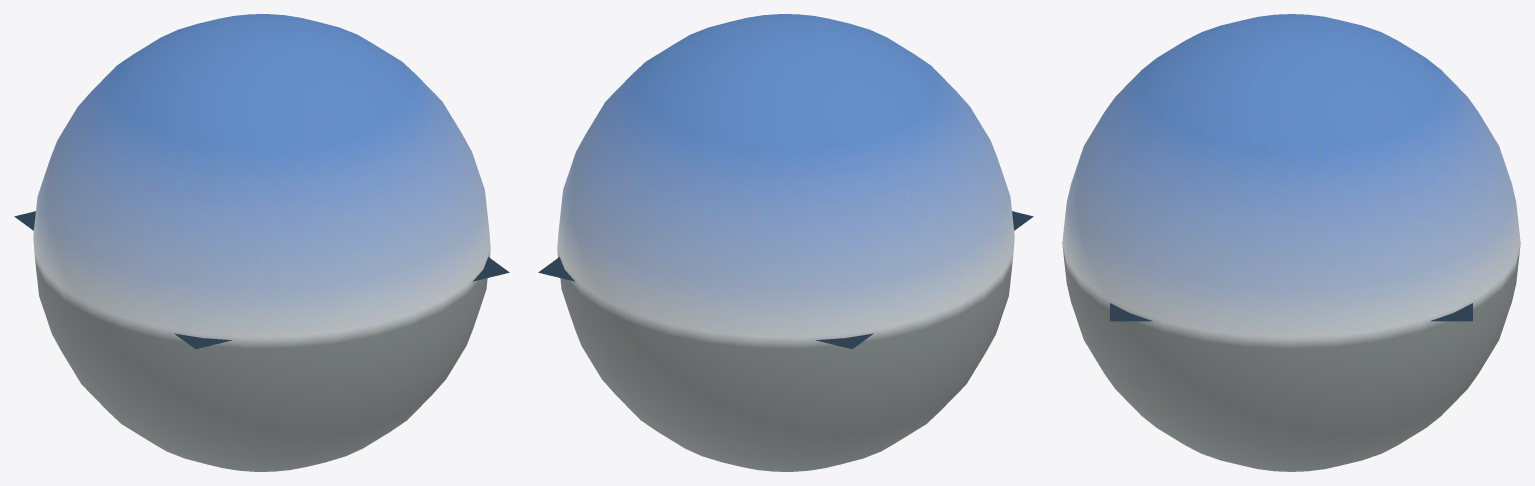
Rendered from room.gltf.
3 views of the same model, side by side, from view 1: azimuth 30°, elevation 25°; view 2: azimuth 150°, elevation 25°; view 3: azimuth 270°, elevation 25° (orthographic).
Visible parts, largest first — view 1: SkyDome, MESH_harbour; view 2: SkyDome, MESH_harbour; view 3: SkyDome, MESH_harbour.
Part boxes in pixels (left/top/right/bottom): SkyDome: left=33, top=14, right=490, bottom=471; MESH_harbour: left=14, top=211, right=509, bottom=349; SkyDome: left=557, top=14, right=1014, bottom=471; MESH_harbour: left=538, top=211, right=1033, bottom=349; SkyDome: left=1062, top=14, right=1520, bottom=471; MESH_harbour: left=1110, top=303, right=1472, bottom=321.
Size of the model in its own units: 240 by 240 by 240.
Materials: 30 (30 with a texture image).
